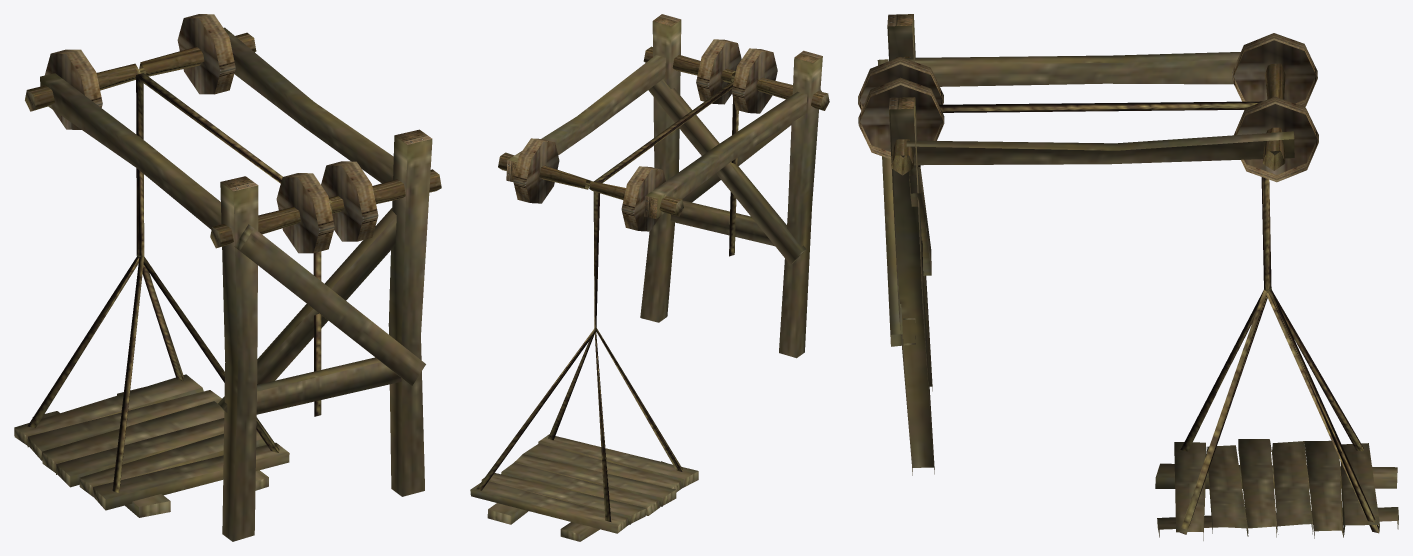
File: S_Build_West060_1.FBX
3 renders of one model, left to right at view 1: azimuth 30°, elevation 25°; view 2: azimuth 150°, elevation 25°; view 3: azimuth 270°, elevation 25°, orthographic. The views are drawn at different scales.
Parts seen in each view (by area): view 1: S_Build_West060_1; view 2: S_Build_West060_1; view 3: S_Build_West060_1.
Boxes of the visible parts, left/top/right/bottom form: S_Build_West060_1: left=14, top=14, right=441, bottom=541; S_Build_West060_1: left=470, top=14, right=829, bottom=541; S_Build_West060_1: left=858, top=14, right=1398, bottom=540.
Size of the model in its own units: 155 by 321 by 292.
